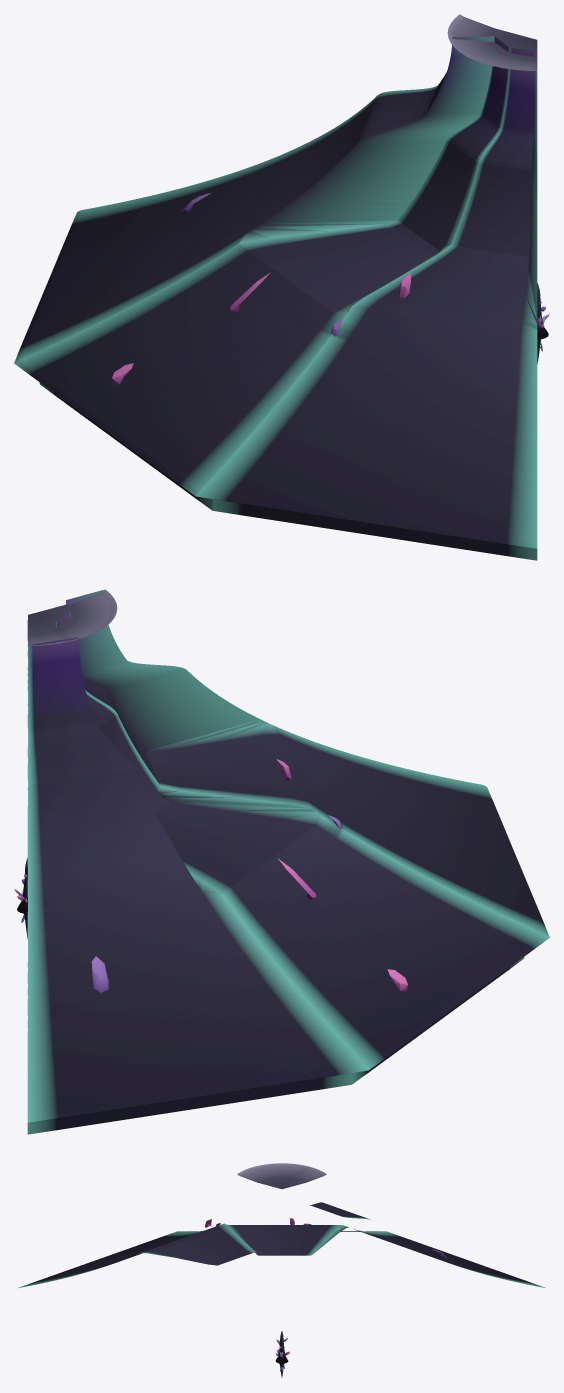
Rendered from caverns-s3-OTokctJR.glb.
The picture shows the model from 3 angles, top to bottom: view 1: azimuth 30°, elevation 25°; view 2: azimuth 150°, elevation 25°; view 3: azimuth 270°, elevation 25°; orthographic projection. The views are drawn at different scales.
Parts seen in each view (by area): view 1: sc_landmark_1; view 2: sc_landmark_1; view 3: sc_landmark_1.
Part boxes in pixels (x1,y1,x2,y2): sc_landmark_1: [14, 14, 537, 560]; sc_landmark_1: [27, 589, 549, 1134]; sc_landmark_1: [17, 1163, 546, 1288].
Bounding box in the file's own units: 419 × 298 × 749.
